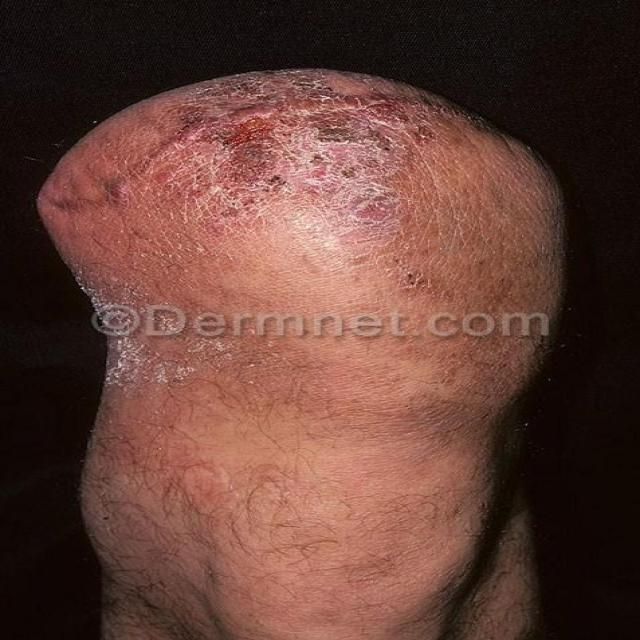Eczema: (67, 79, 491, 391)
